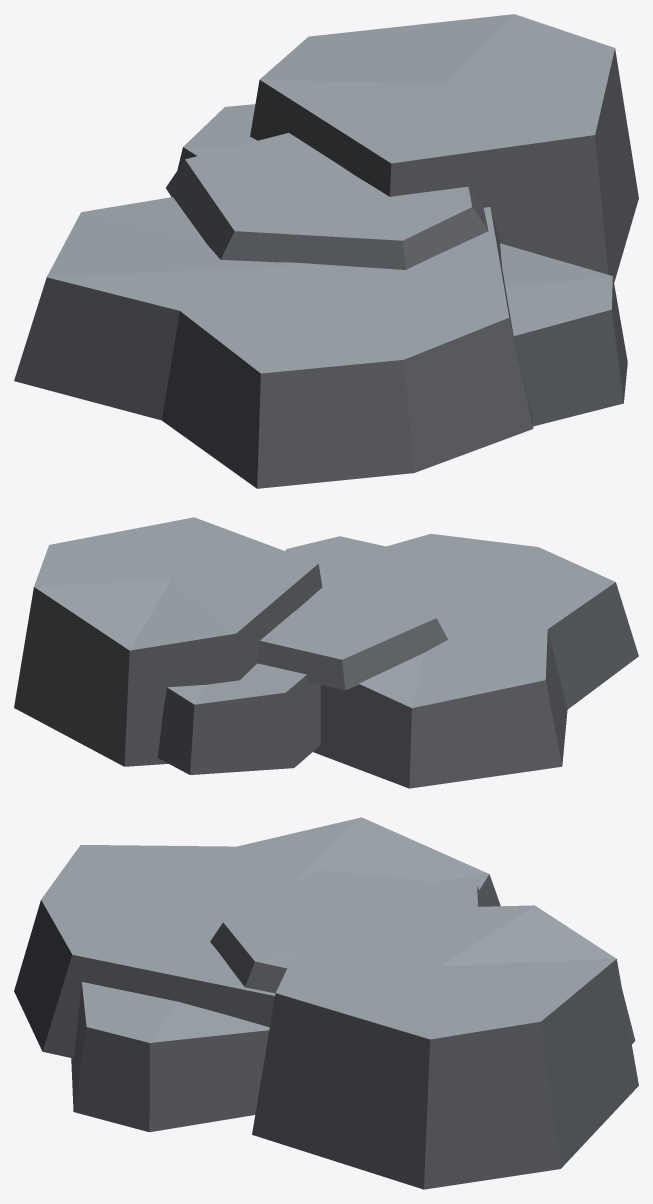
The picture shows the model from 3 angles, top to bottom: view 1: azimuth 30°, elevation 25°; view 2: azimuth 150°, elevation 25°; view 3: azimuth 270°, elevation 25°; orthographic projection. The views are drawn at different scales.
Visible parts, largest first — view 1: SK_02; view 2: SK_02; view 3: SK_02.
Part boxes in pixels (x1=…): SK_02: x1=14, y1=14, x2=638, y2=488; SK_02: x1=14, y1=517, x2=638, y2=788; SK_02: x1=14, y1=817, x2=638, y2=1189.
Size of the model in its own units: 7.68 by 1.9 by 6.9.
